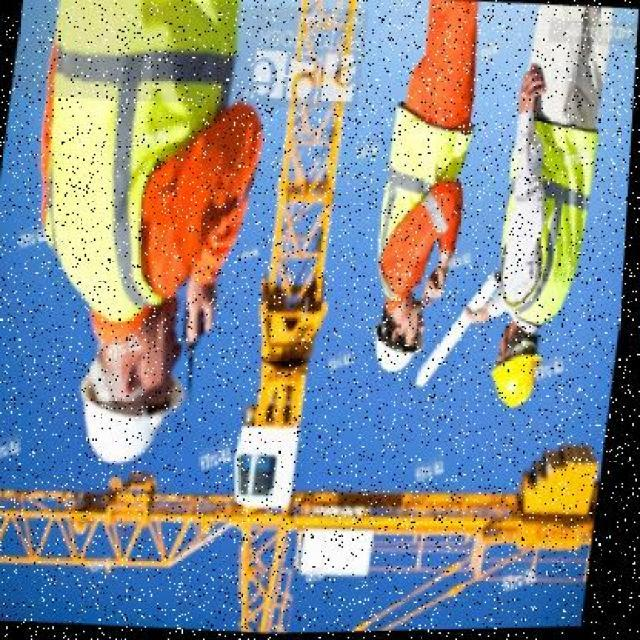helmet: (76, 386, 189, 468), (488, 346, 546, 414), (374, 334, 425, 374)
vest: (19, 0, 231, 324), (495, 112, 601, 334), (374, 108, 476, 302)
